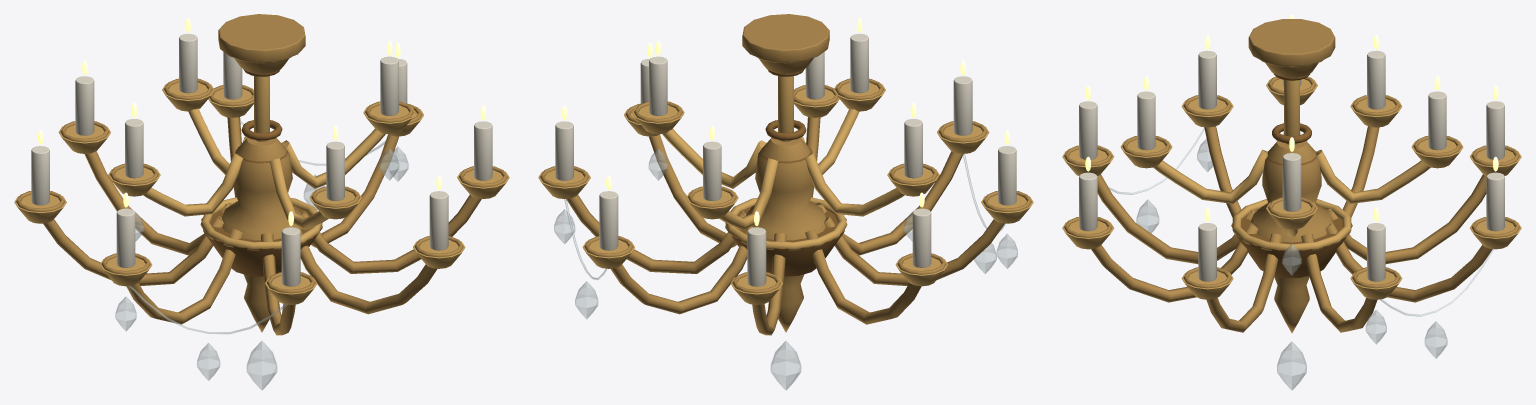
File: ceiling_light_luxury_lod2.glb
The picture shows the model from 3 angles, left to right: view 1: azimuth 30°, elevation 25°; view 2: azimuth 150°, elevation 25°; view 3: azimuth 270°, elevation 25°; orthographic projection.
Parts seen in each view (by area): view 1: BATCH_Root_AntiqueBrass.002, BATCH_Root_PolishedBrass_Accent.002, BATCH_Root_CandleSleeve_Ivory.002, BATCH_Root_FacetedCrystal.002, BATCH_Root_AgedBrass_Recess.002, BATCH_Root_Emitter_2700K.002; view 2: BATCH_Root_AntiqueBrass.002, BATCH_Root_PolishedBrass_Accent.002, BATCH_Root_CandleSleeve_Ivory.002, BATCH_Root_FacetedCrystal.002, BATCH_Root_AgedBrass_Recess.002, BATCH_Root_Emitter_2700K.002; view 3: BATCH_Root_AntiqueBrass.002, BATCH_Root_PolishedBrass_Accent.002, BATCH_Root_CandleSleeve_Ivory.002, BATCH_Root_FacetedCrystal.002, BATCH_Root_AgedBrass_Recess.002, BATCH_Root_Emitter_2700K.002.
Part boxes in pixels (x1,y1,x2,y2): BATCH_Root_AntiqueBrass.002: (16, 14, 507, 335); BATCH_Root_PolishedBrass_Accent.002: (14, 57, 509, 304); BATCH_Root_CandleSleeve_Ivory.002: (31, 33, 492, 286); BATCH_Root_FacetedCrystal.002: (115, 120, 408, 390); BATCH_Root_AgedBrass_Recess.002: (201, 69, 322, 276); BATCH_Root_Emitter_2700K.002: (38, 17, 485, 225); BATCH_Root_AntiqueBrass.002: (540, 14, 1031, 335); BATCH_Root_PolishedBrass_Accent.002: (538, 57, 1033, 304); BATCH_Root_CandleSleeve_Ivory.002: (555, 33, 1016, 286); BATCH_Root_FacetedCrystal.002: (554, 148, 1017, 390); BATCH_Root_AgedBrass_Recess.002: (725, 69, 846, 276); BATCH_Root_Emitter_2700K.002: (562, 17, 1009, 225); BATCH_Root_AntiqueBrass.002: (1064, 19, 1519, 332); BATCH_Root_PolishedBrass_Accent.002: (1062, 60, 1521, 299); BATCH_Root_CandleSleeve_Ivory.002: (1079, 50, 1504, 281); BATCH_Root_FacetedCrystal.002: (1108, 128, 1493, 390); BATCH_Root_AgedBrass_Recess.002: (1231, 73, 1352, 277); BATCH_Root_Emitter_2700K.002: (1085, 14, 1498, 221).
Size of what is drawn, in the model's own units: 1.53 by 1.3 by 1.53.
